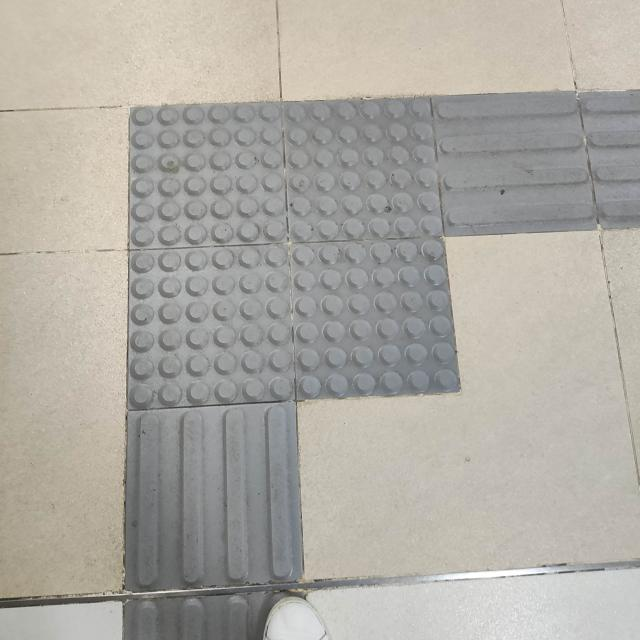kanan: (66, 59, 640, 516)
